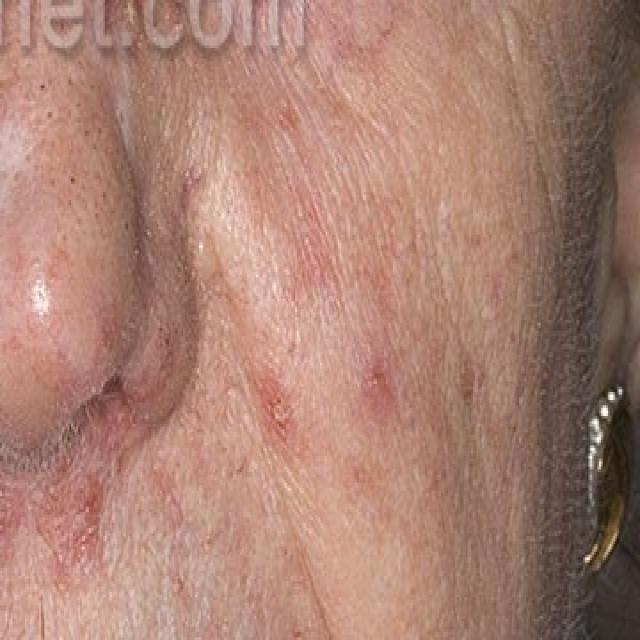Rosacea: (216, 108, 408, 445), (0, 479, 114, 570)
